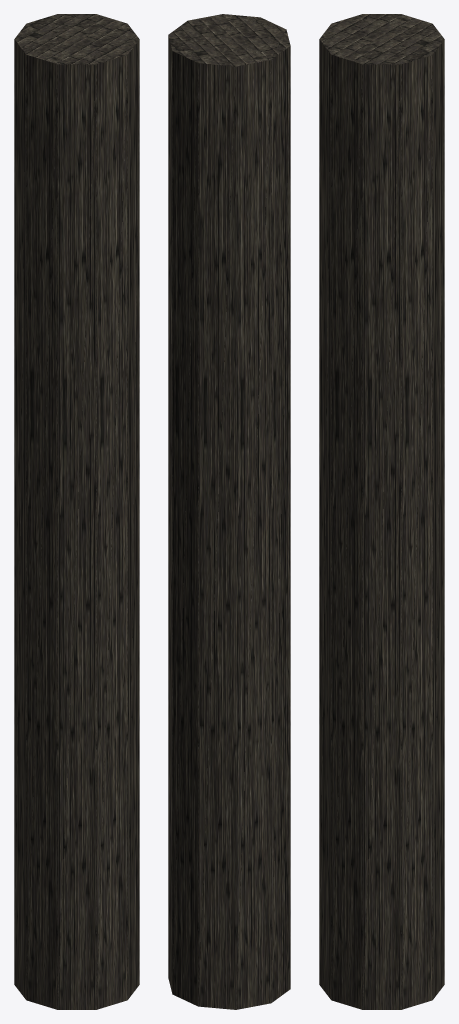
The model's file is pillar.obj.
3 renders of one model, left to right at view 1: azimuth 90°, elevation 25°; view 2: azimuth 150°, elevation 25°; view 3: azimuth 270°, elevation 25°, orthographic.
Parts seen in each view (by area): view 1: Cylinder; view 2: Cylinder; view 3: Cylinder.
Boxes of the visible parts, x1=… form: Cylinder: x1=14, y1=14, x2=139, y2=1009; Cylinder: x1=168, y1=14, x2=290, y2=1009; Cylinder: x1=319, y1=14, x2=444, y2=1009.
Bounding box in the file's own units: 0.2283 × 2 × 0.24.
